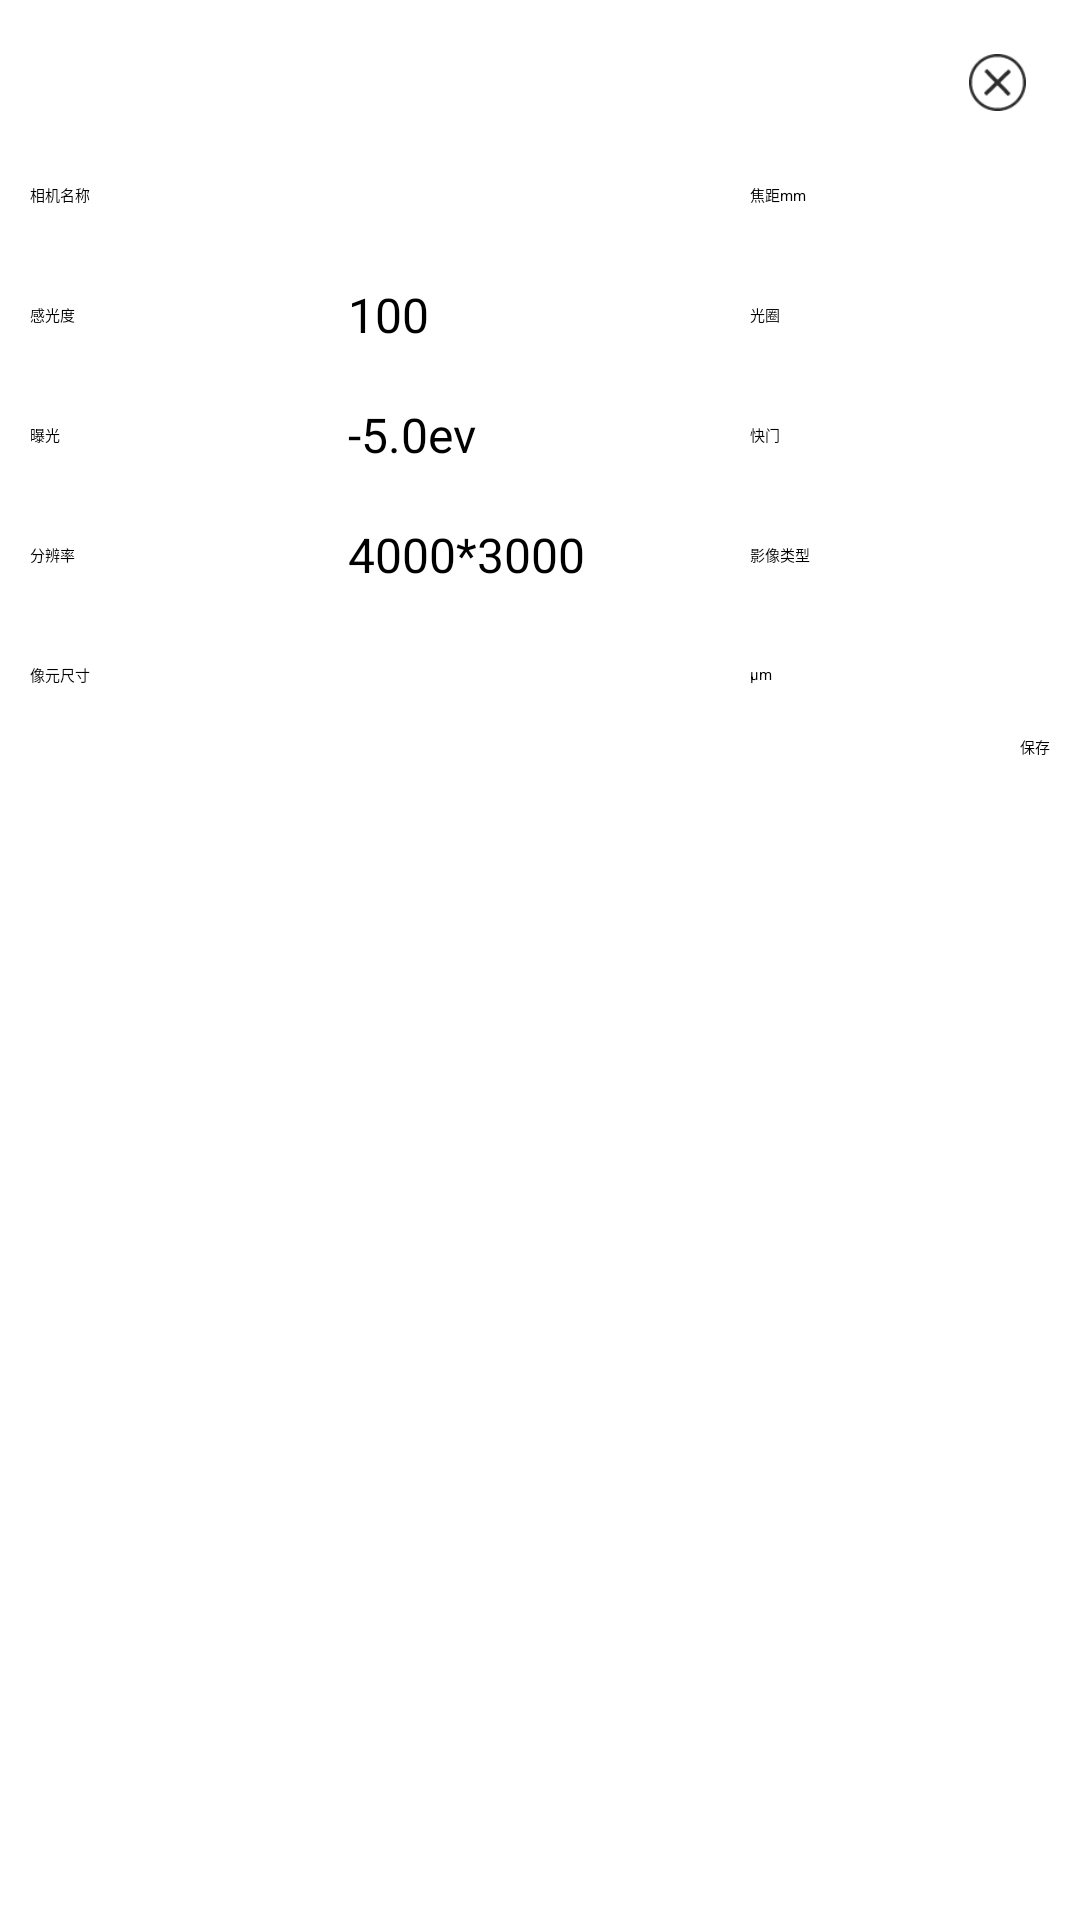

Icon bounding boxes for this 1080x1920 phone screenshot, format (x1, y1, x2, y2):
close: (969, 54, 1026, 111)
